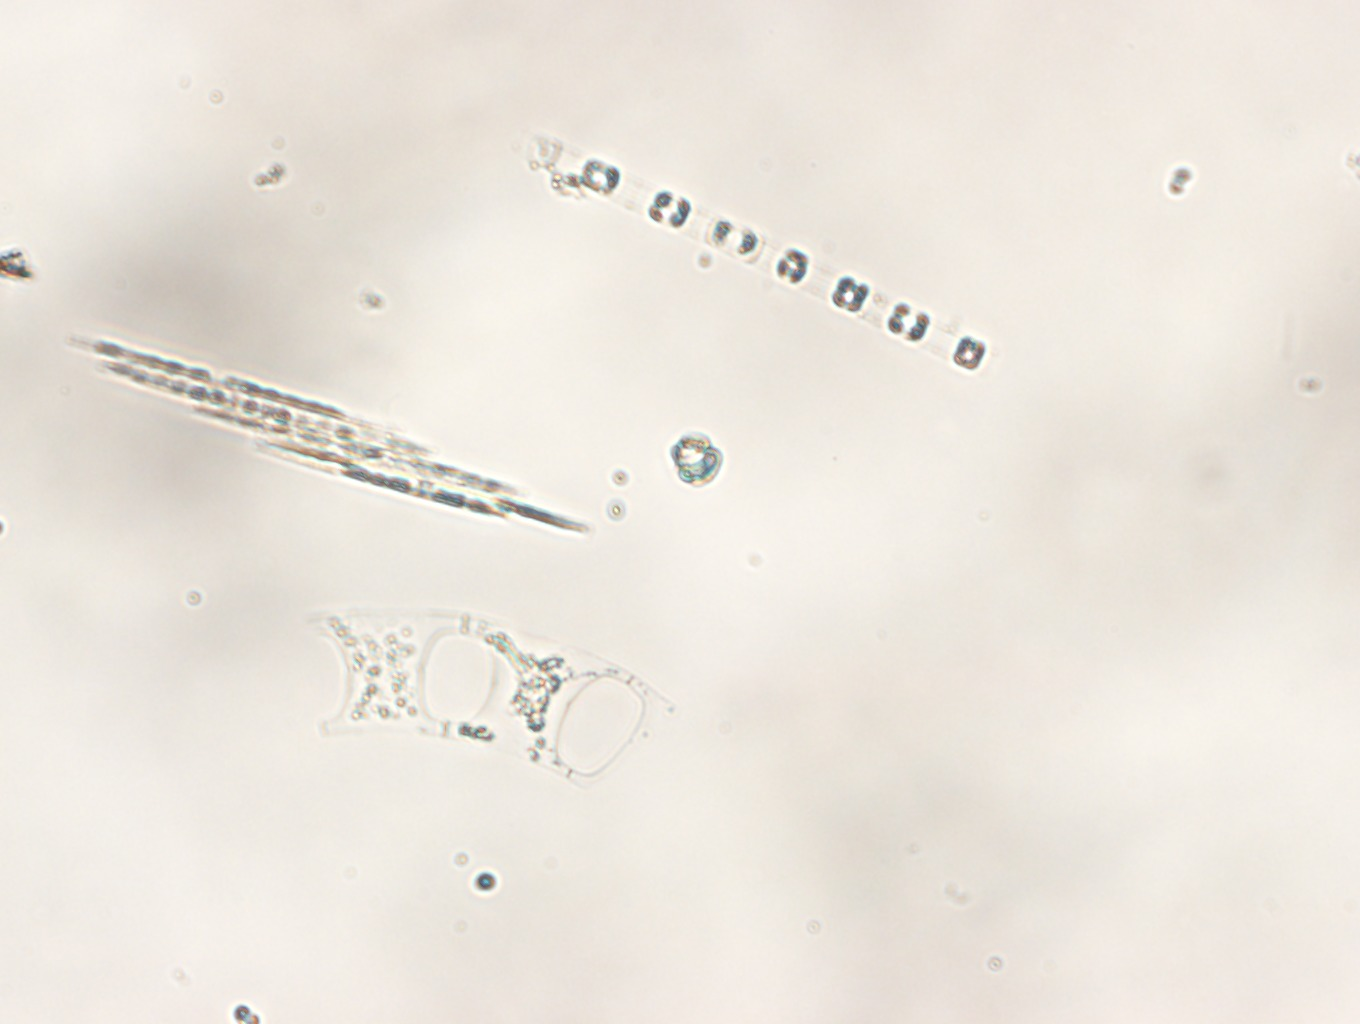eucampia: (303, 608, 675, 790)
skeletonema: (525, 134, 994, 376)
